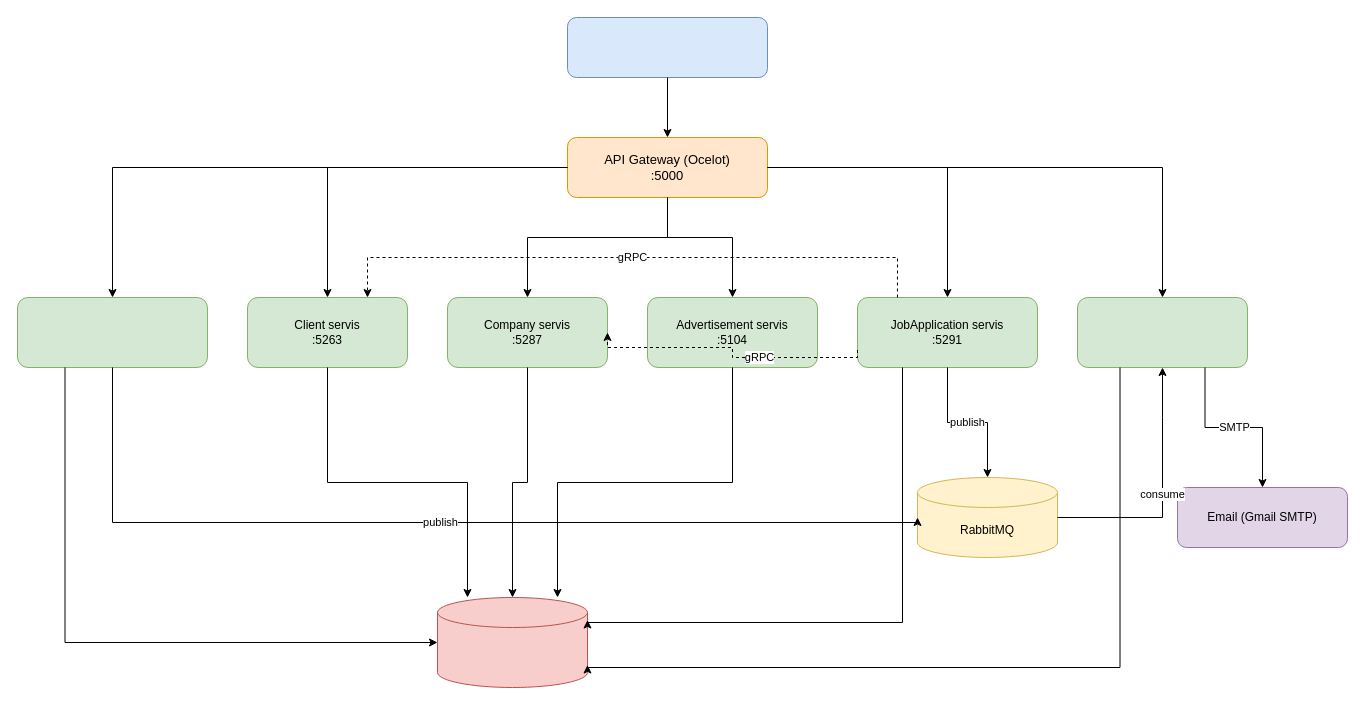
Some shapes in this 1365 by 705 pixel diagram are drawn without their labels. Here are the shapes that lost their labels. From the top down, the box of each, then its label:
(566, 16, 768, 78): Frontend (React + Vite) :5173
(16, 296, 208, 368): Auth servis JobLess.IdentityServer :5218
(1076, 296, 1248, 368): Notification servis :5240
(436, 596, 588, 688): SQL Server
